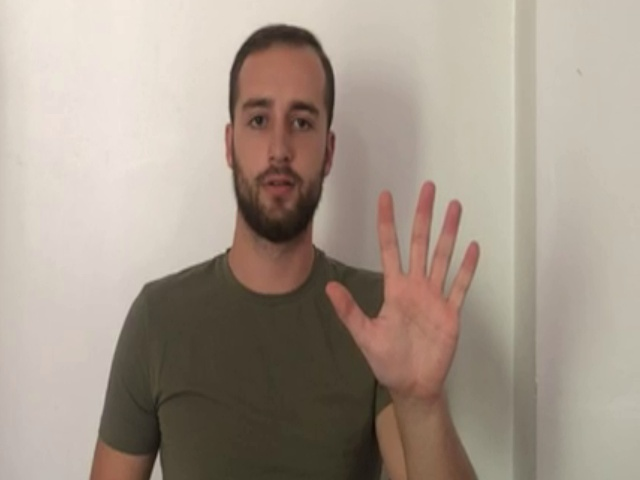Pet i Sedumnaeset: (323, 177, 485, 401)
